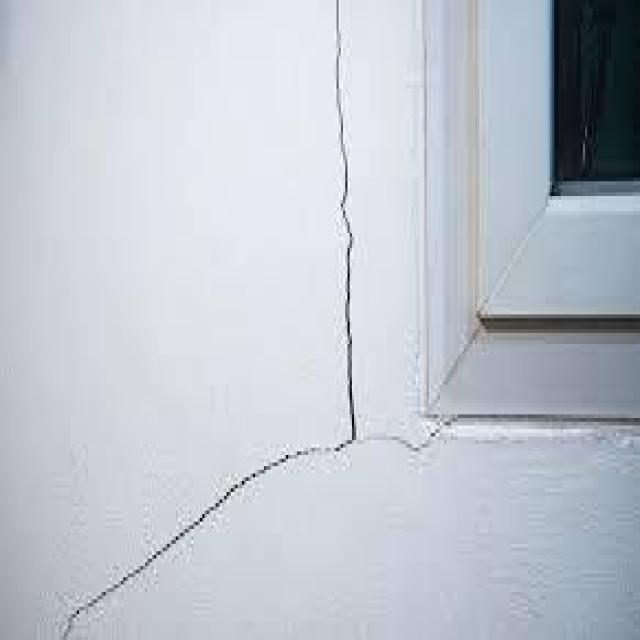Rachadura: (57, 0, 467, 636)
